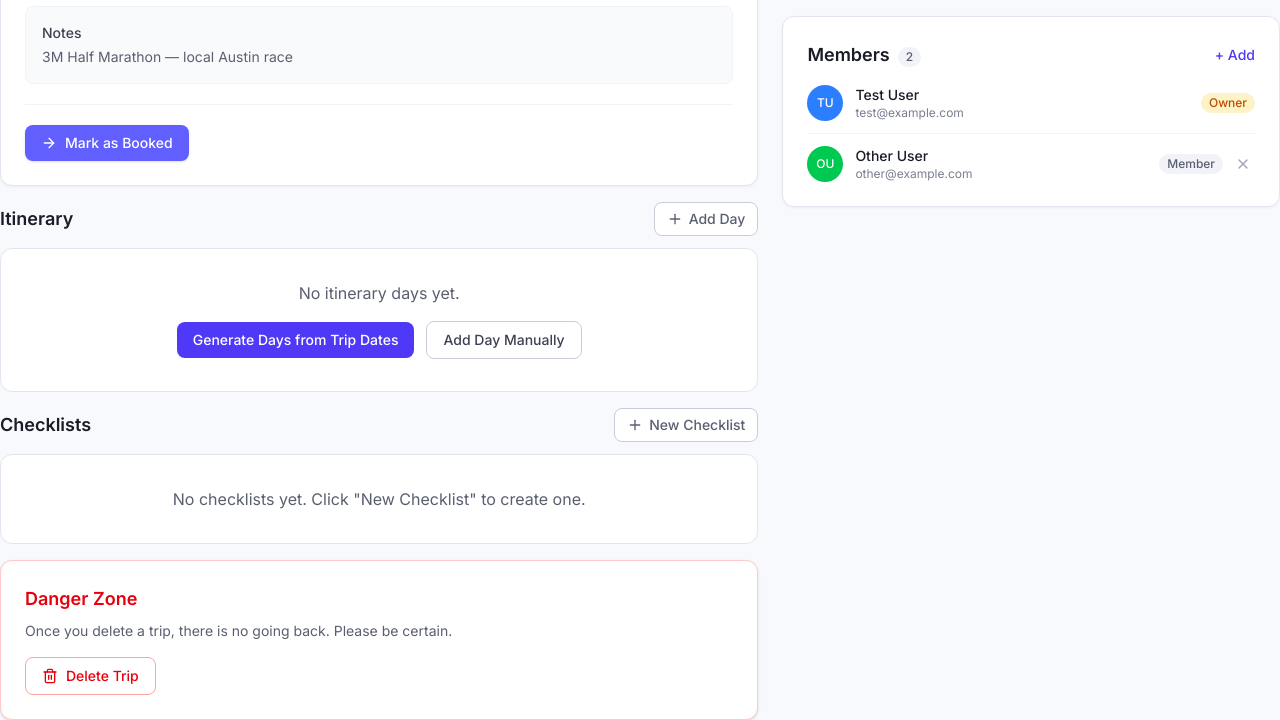
TripDetailPage › shows event name in delete confirmation dialog
The width and height of the screenshot is (1280, 720).
(page scrolled)
Click the button "Delete Trip" at (90,676), box x1=25 y1=657 x2=156 y2=695
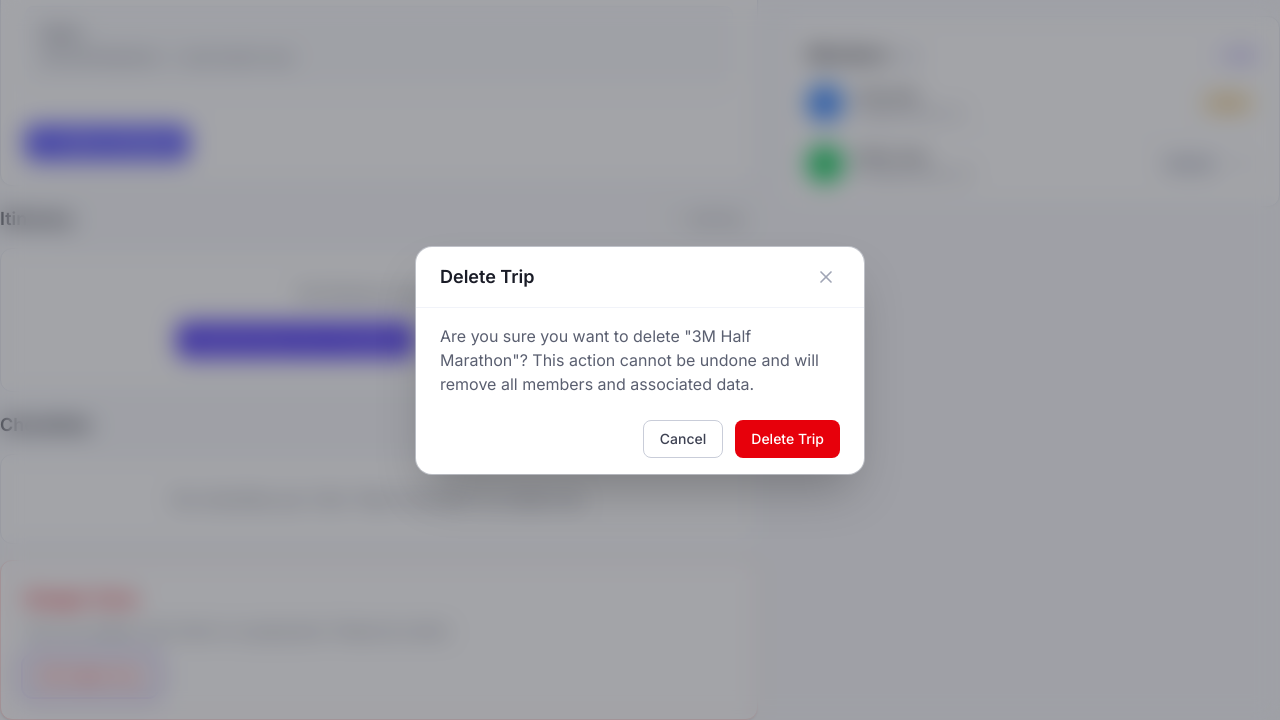
Expected: the text "Are you sure you want to delete \"3M Half Marathon\"" is shown, x1=440 y1=326 x2=819 y2=394
